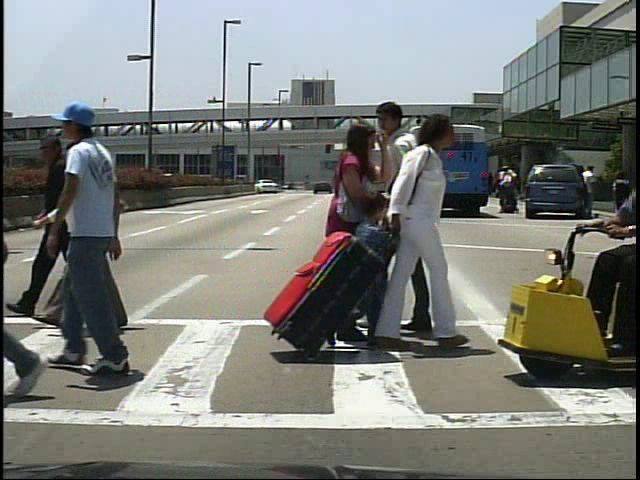person: (52, 105, 160, 388), (361, 116, 467, 367), (359, 99, 465, 350), (323, 122, 391, 357), (56, 136, 120, 330), (28, 129, 86, 323), (342, 182, 388, 318), (582, 164, 602, 218), (501, 165, 521, 214), (498, 166, 516, 219)
